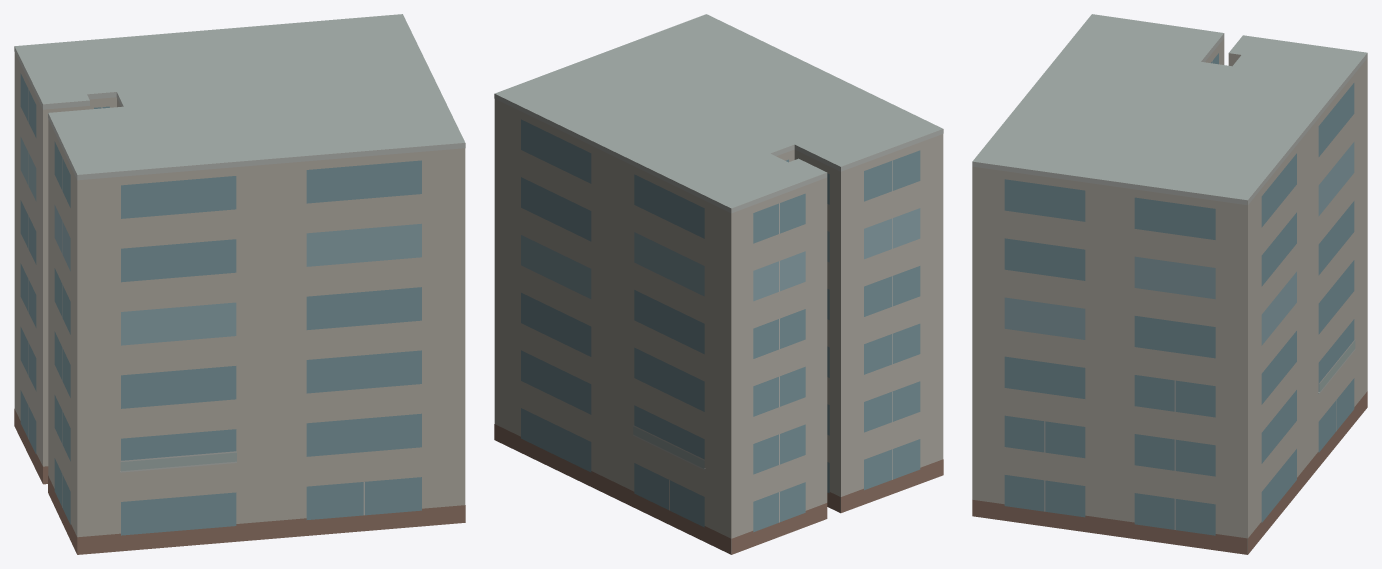
The model's file is survey-upis-32928068.glb.
3 views of the same model, side by side, from view 1: azimuth 30°, elevation 25°; view 2: azimuth 150°, elevation 25°; view 3: azimuth 270°, elevation 25° (orthographic). The views are drawn at different scales.
Parts seen in each view (by area): view 1: survey-upis-32928068.tmp; view 2: survey-upis-32928068.tmp; view 3: survey-upis-32928068.tmp.
Boxes of the visible parts, x1=… form: survey-upis-32928068.tmp: x1=14, y1=14, x2=465, y2=554; survey-upis-32928068.tmp: x1=494, y1=14, x2=943, y2=554; survey-upis-32928068.tmp: x1=972, y1=14, x2=1367, y2=554.
Size of the model in its own units: 19.39 by 17.2 by 17.39.
